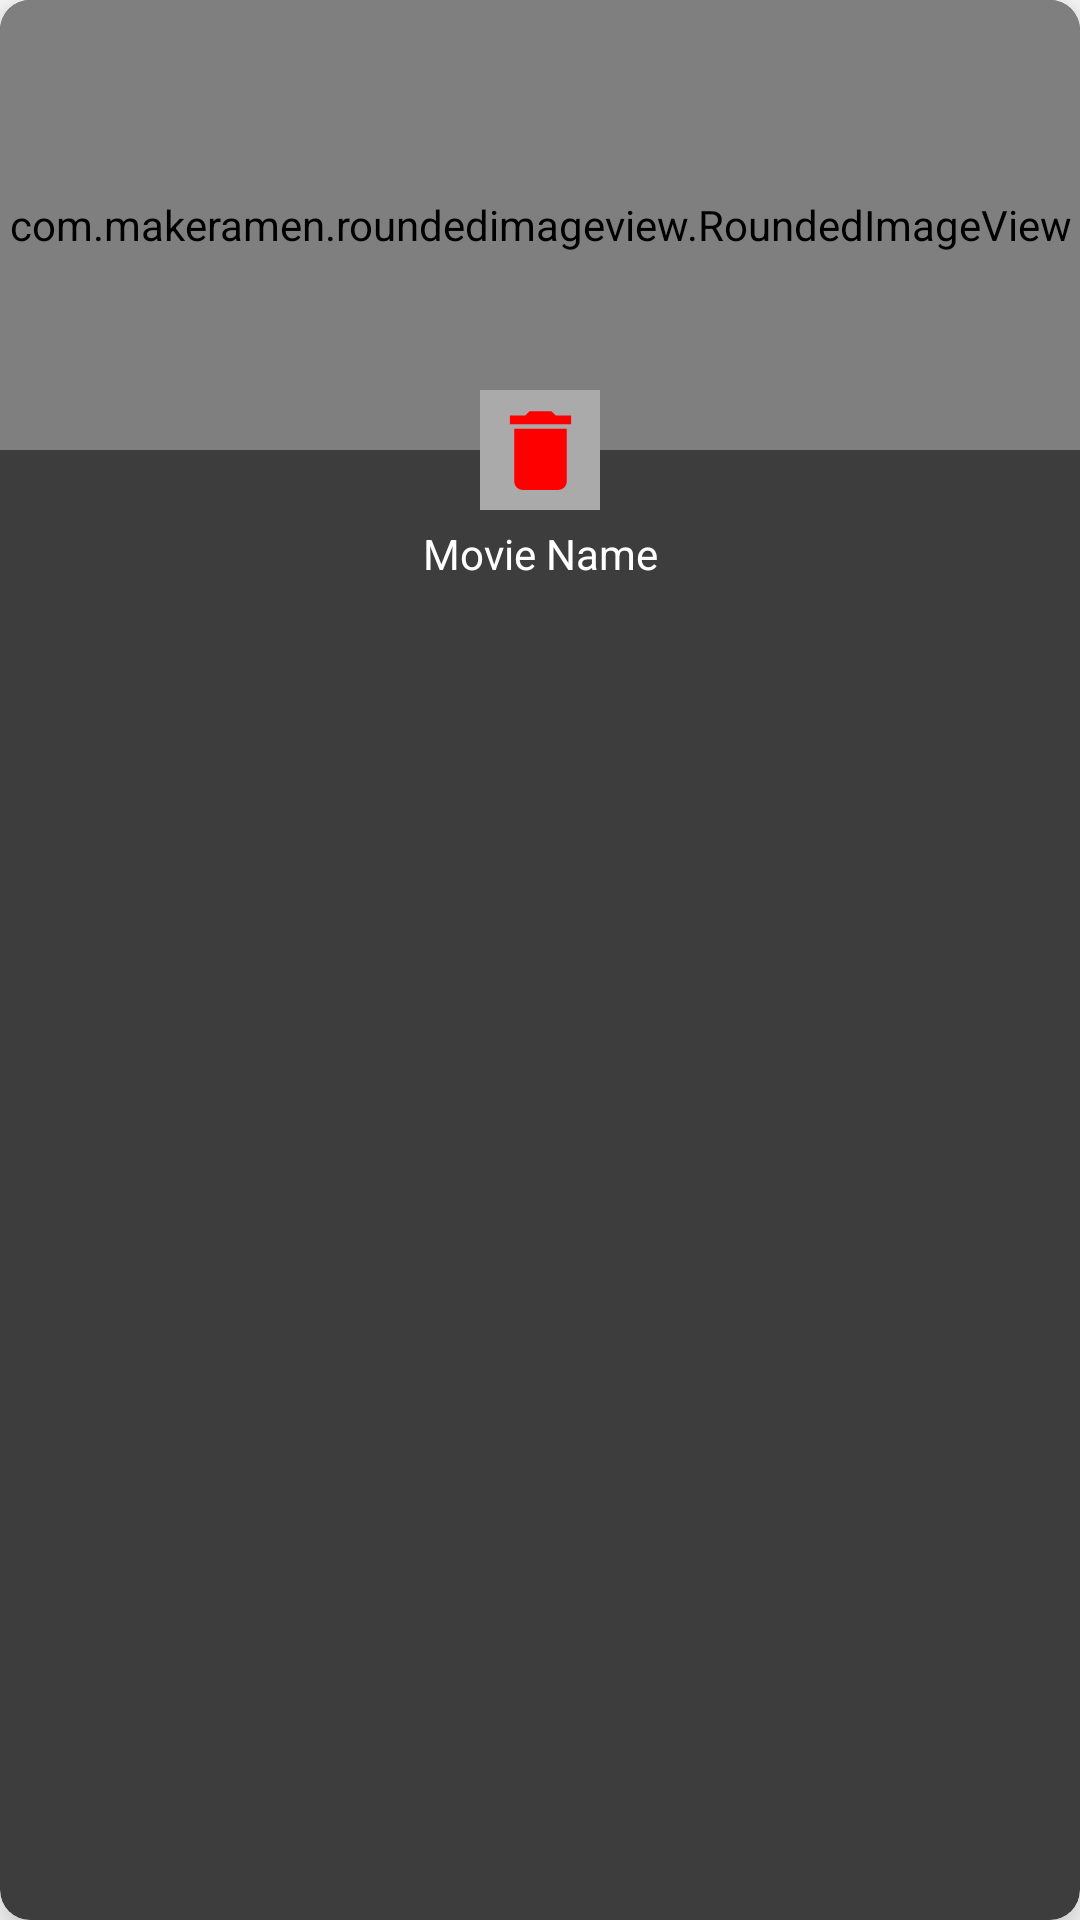

Point at icon controls on the screen. Image size 1080*1920, points as point (x, y).
delete: point (540, 450)
